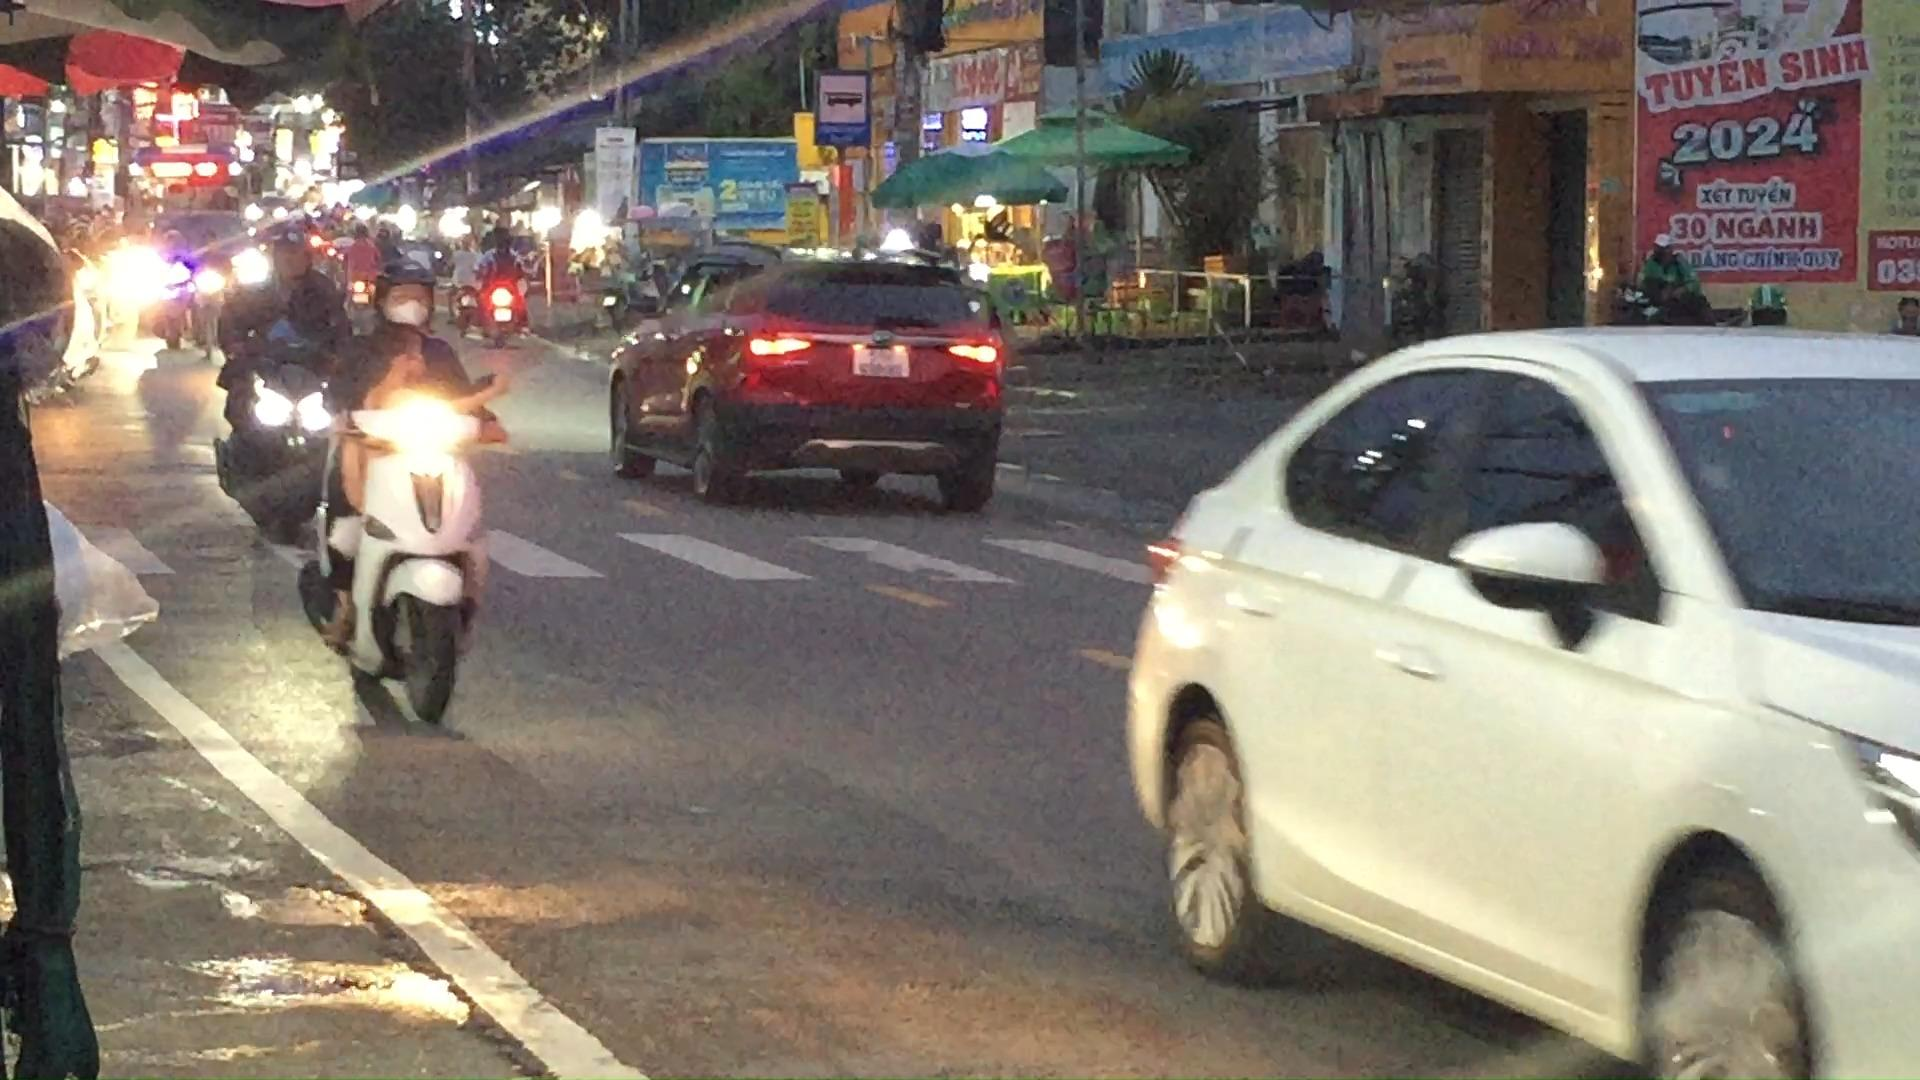bien_so: (853, 343, 912, 379)
